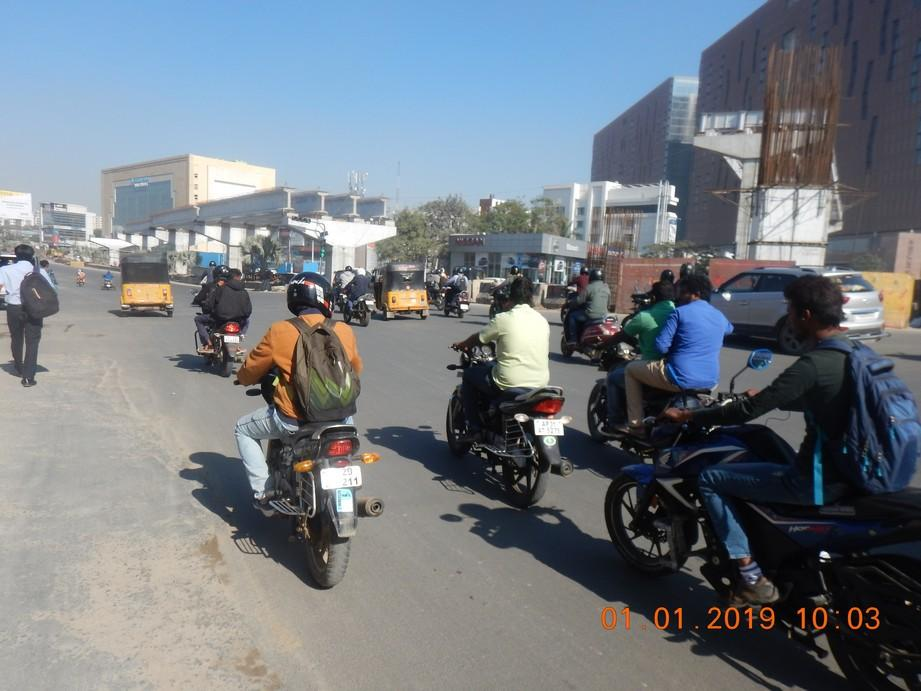plate: (532, 417, 565, 436)
